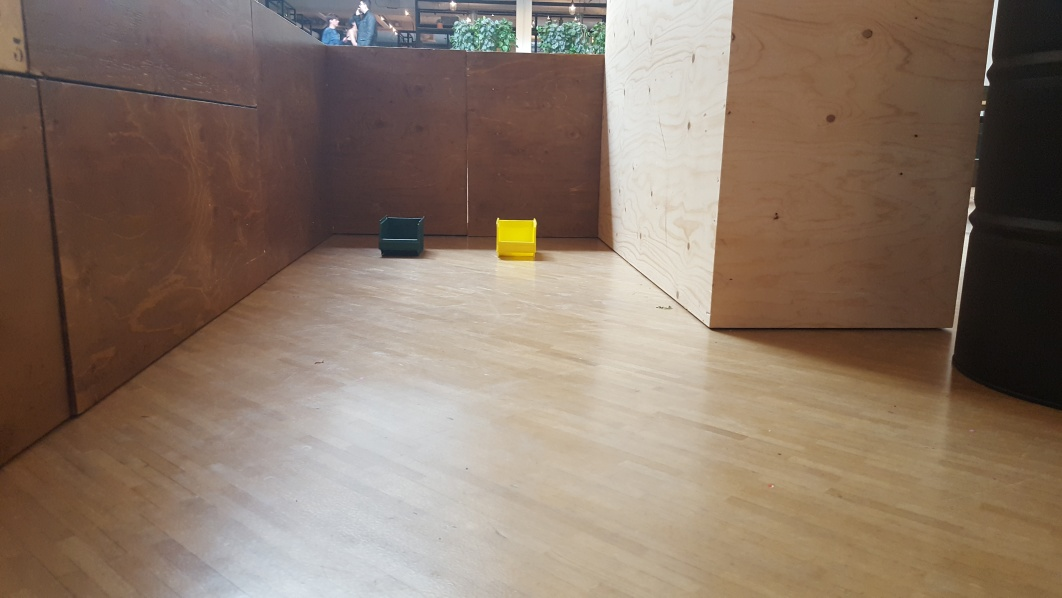tray: (377, 213, 428, 257), (491, 215, 540, 259)
